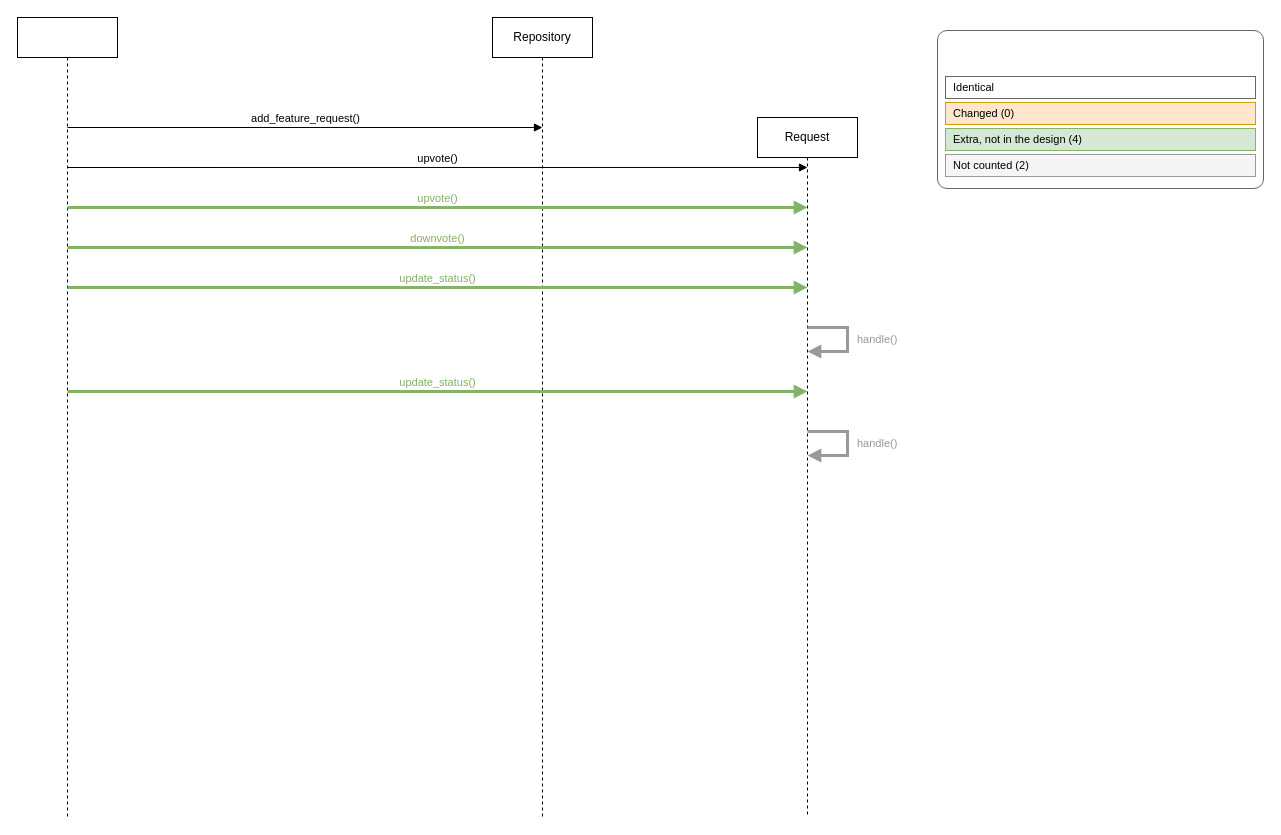
The diagram is 1281 pixels wide and 835 high, and some of its shapes have lost their labels. The shapes that lost their labels are listed below. From the top down, each one's box as (x1, y1, x2, y2) in pixels, then its label:
(936, 30, 1264, 188): IMPLEMENTED SCENARIO built by AI · recorded from impl/scenarios/request.cpp
(16, 16, 118, 818): User
